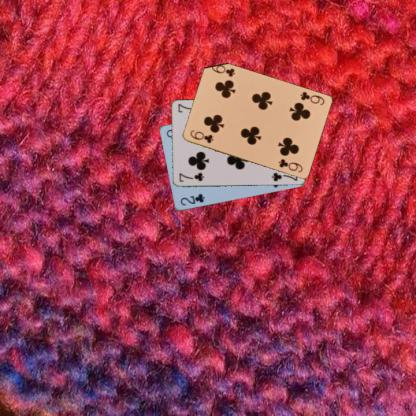2c: (177, 191, 206, 207)
6c: (297, 89, 325, 106), (188, 128, 214, 144)
7c: (177, 171, 205, 183)
